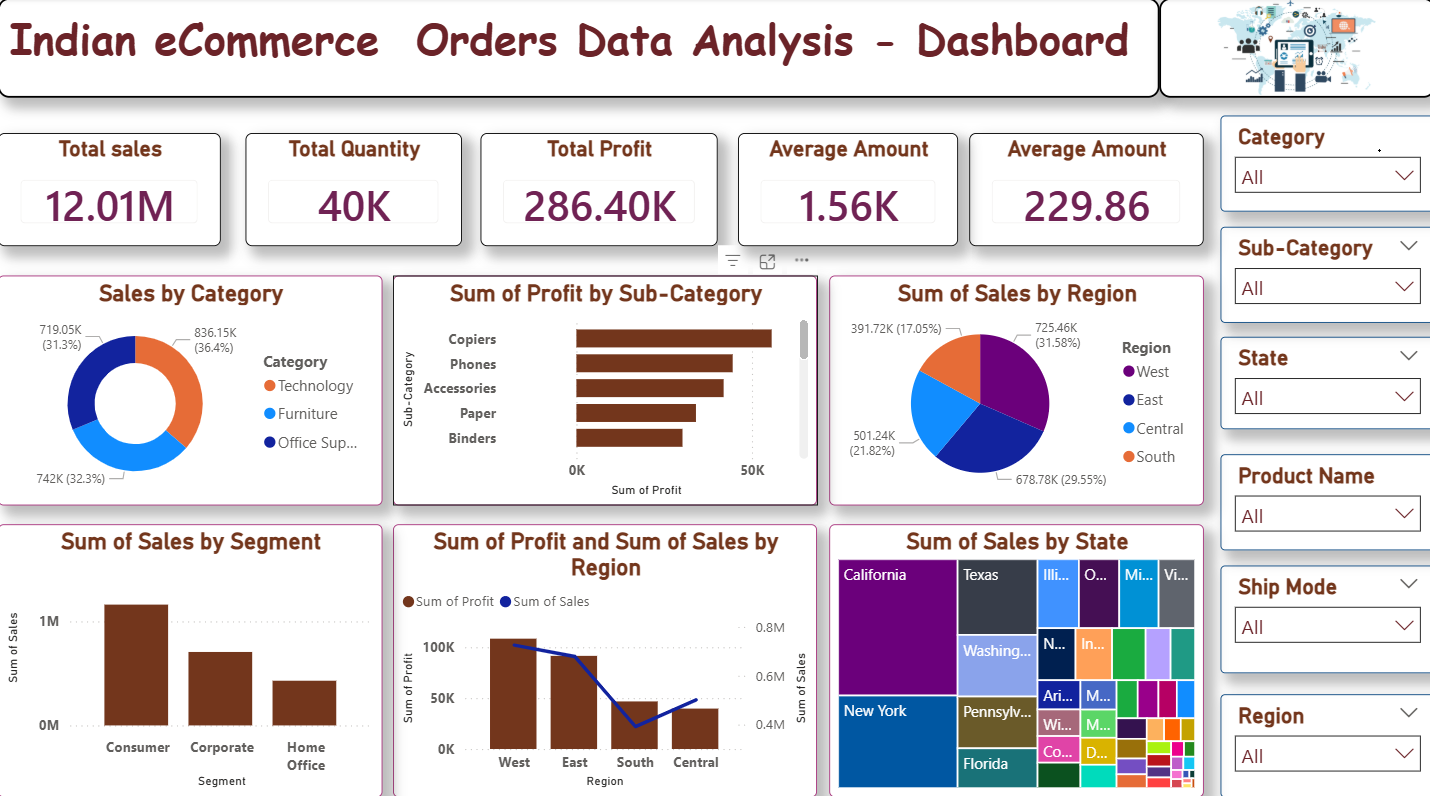

The dashboard page shown, as its layout file describes it:
{"tool":"powerbi","page":{"name":"Page 1","canvas":[1280,720],"ordinal":0},"visuals":[{"type":"textbox","box":[0,0,1034.7,89.2],"z":0},{"type":"image","box":[1034.7,0,245.6,89.2],"z":1000},{"type":"cardVisual","title":"Total sales","fields":{"Data":["Sum(Orders.Total sales)"]},"box":[0,120.2,198.8,100.6],"z":2000},{"type":"cardVisual","title":"Total Quantity","fields":{"Data":["Sum(Orders.Quantity)"]},"box":[220.9,120.2,192.6,100.6],"z":3000},{"type":"cardVisual","title":"Total Profit","fields":{"Data":["Sum(Orders.Profit)"]},"box":[429.5,120.2,211,100.6],"z":4000},{"type":"cardVisual","title":"Average Amount","fields":{"Data":["Avg(Orders.Sales)"]},"box":[865,120.2,208.6,100.6],"z":5000},{"type":"slicer","fields":{"Values":["Orders.Category"]},"box":[1088.3,104.3,191.4,85.9],"z":6000},{"type":"slicer","fields":{"Values":["Orders.Sub-Category"]},"box":[1088.3,203.7,191.4,85.9],"z":7000},{"type":"slicer","fields":{"Values":["Orders.State"]},"box":[1088.3,301.8,191.4,82.2],"z":8000},{"type":"slicer","fields":{"Values":["Orders.Product Name"]},"box":[1088.3,406.1,191.4,85.9],"z":9000},{"type":"slicer","fields":{"Values":["Orders.Ship Mode"]},"box":[1088.3,505.5,191.4,95.7],"z":10000},{"type":"slicer","fields":{"Values":["Orders.Region"]},"box":[1088.3,619.6,191.4,92],"z":11000},{"type":"donutChart","title":"Sales by Category","fields":{"Category":["Orders.Category"],"Y":["Sum(Orders.Sales)"]},"box":[0,246.6,342.3,204.9],"z":12000},{"type":"pieChart","fields":{"Category":["Orders.Region"],"Y":["Sum(Orders.Sales)"]},"box":[739.9,246.6,333.7,204.9],"z":13000},{"type":"clusteredBarChart","fields":{"Y":["Sum(Orders.Profit)"],"Category":["Orders.Sub-Category"]},"box":[352.1,246.6,377.9,204.9],"z":14000},{"type":"lineClusteredColumnComboChart","fields":{"Y":["Sum(Orders.Profit)"],"Y2":["Sum(Orders.Sales)"],"Category":["Orders.Region"]},"box":[352.1,468.7,377.9,242.9],"z":15000},{"type":"columnChart","fields":{"Category":["Orders.Segment"],"Y":["Sum(Orders.Sales)"]},"box":[0,468.7,342.3,242.9],"z":16000},{"type":"cardVisual","title":"Average Amount","fields":{"Data":["Sum(Orders.Discount)"]},"box":[658.9,120.2,196.3,100.6],"z":17000},{"type":"treemap","fields":{"Group":["Orders.State"],"Values":["Sum(Orders.Sales)"]},"box":[739.9,468.7,333.7,242.9],"z":18000}]}

Visuals, with their boxes in screenshot pixels (x1, y1, x2, y2), scaled from the page's 1280x720 canvas onto the 1430x796 screenshot:
textbox: <bbox>0, 0, 1156, 99</bbox>
image: <bbox>1156, 0, 1429, 99</bbox>
"Total sales" cardVisual: <bbox>0, 133, 222, 244</bbox>
"Total Quantity" cardVisual: <bbox>247, 133, 462, 244</bbox>
"Total Profit" cardVisual: <bbox>480, 133, 716, 244</bbox>
"Average Amount" cardVisual: <bbox>966, 133, 1199, 244</bbox>
slicer - Orders.Category: <bbox>1216, 115, 1429, 210</bbox>
slicer - Orders.Sub-Category: <bbox>1216, 225, 1429, 320</bbox>
slicer - Orders.State: <bbox>1216, 334, 1429, 425</bbox>
slicer - Orders.Product Name: <bbox>1216, 449, 1429, 544</bbox>
slicer - Orders.Ship Mode: <bbox>1216, 559, 1429, 665</bbox>
slicer - Orders.Region: <bbox>1216, 685, 1429, 787</bbox>
"Sales by Category" donutChart: <bbox>0, 273, 382, 499</bbox>
pieChart - Orders.Region x Sum(Orders.Sales): <bbox>827, 273, 1199, 499</bbox>
clusteredBarChart - Sum(Orders.Profit) x Orders.Sub-Category: <bbox>393, 273, 816, 499</bbox>
lineClusteredColumnComboChart - Sum(Orders.Profit) x Sum(Orders.Sales): <bbox>393, 518, 816, 787</bbox>
columnChart - Orders.Segment x Sum(Orders.Sales): <bbox>0, 518, 382, 787</bbox>
"Average Amount" cardVisual: <bbox>736, 133, 955, 244</bbox>
treemap - Orders.State x Sum(Orders.Sales): <bbox>827, 518, 1199, 787</bbox>
